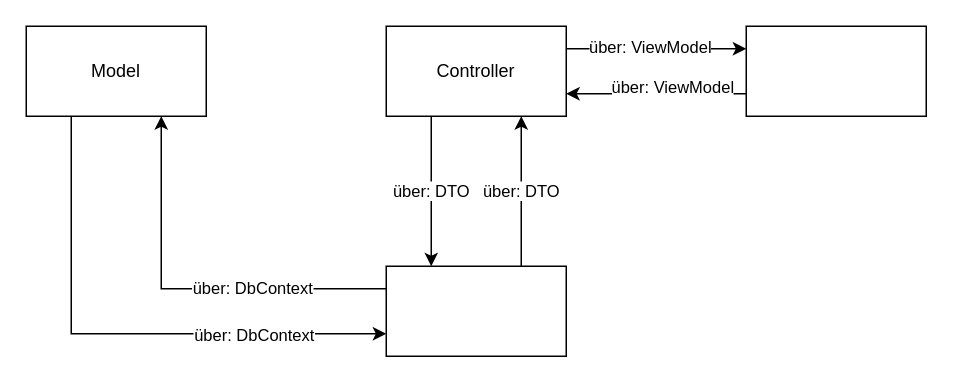
Image size: 953x383. Some labels were removed from this diagram. The shapes that lost their labels are listed below. From the top down, each one's box as (x1, y1, x2, y2) in pixels, then its label:
(745, 25, 926, 116): View
(385, 265, 566, 356): Services
